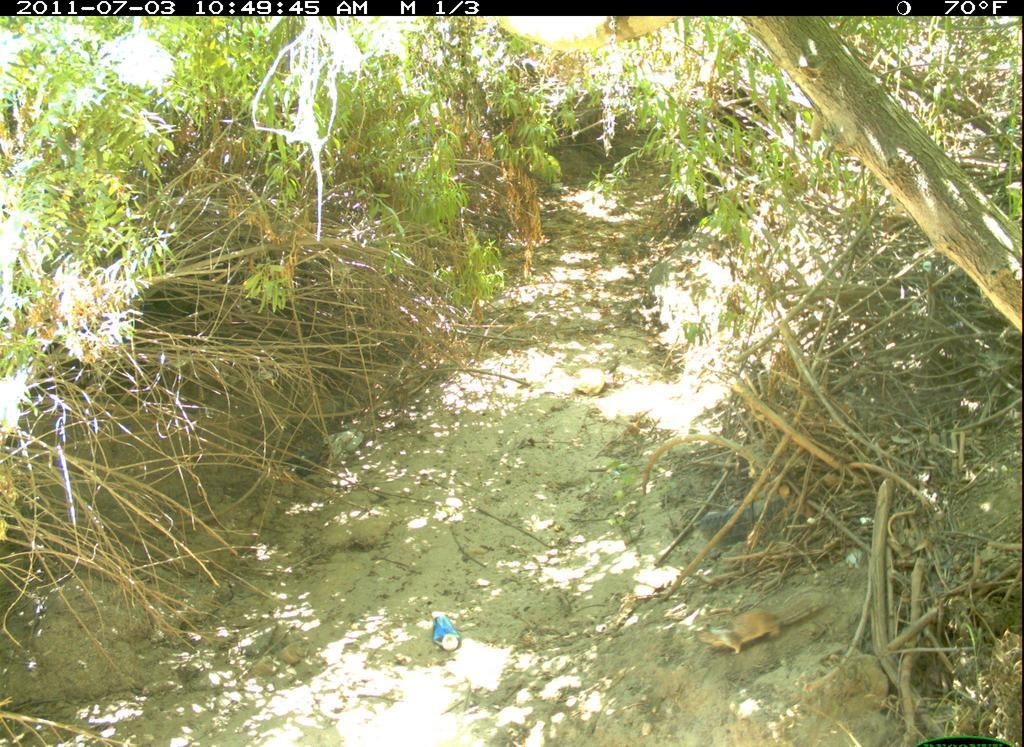squirrel: (681, 569, 839, 671)
